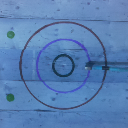Axe Tip: (84, 62, 95, 65)
